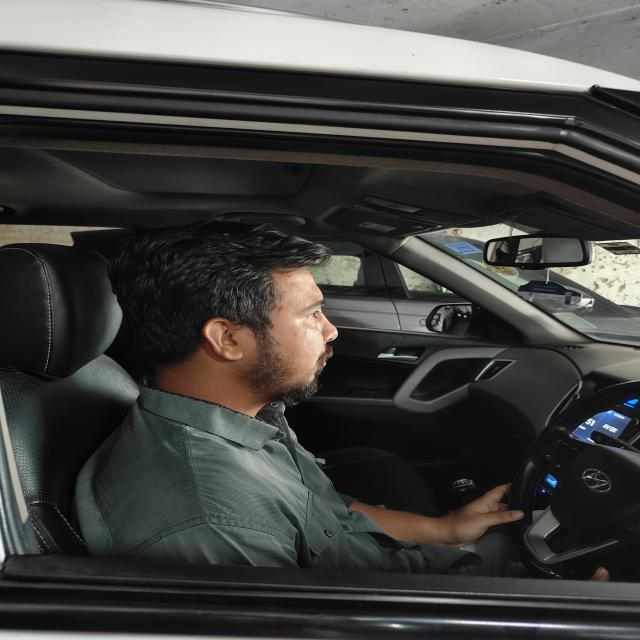no-seatbelt: (6, 361, 487, 591)
